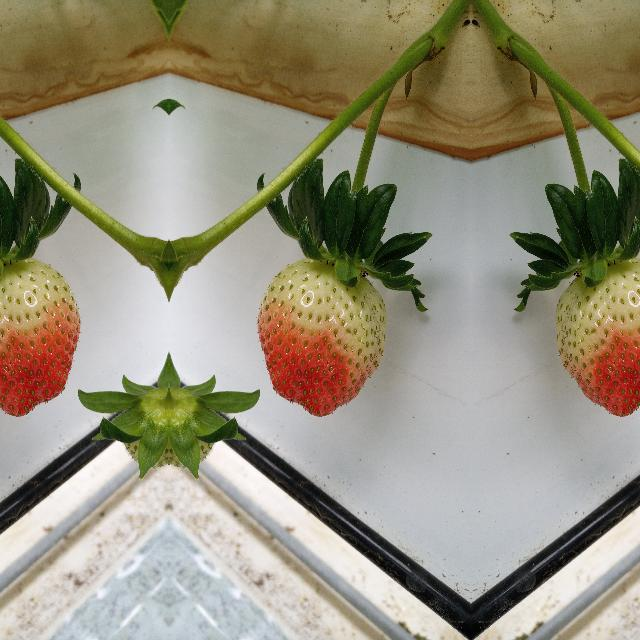Health_50: (256, 259, 386, 416), (554, 259, 640, 416), (0, 259, 80, 416)
